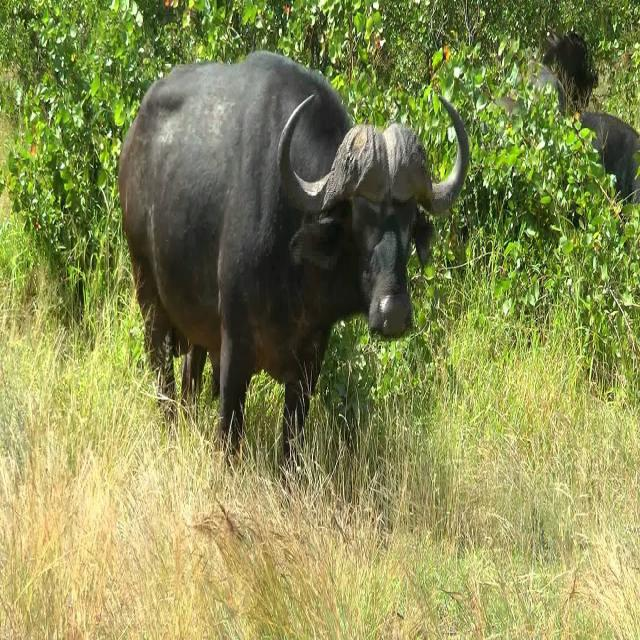buffalo: (119, 48, 480, 457)
